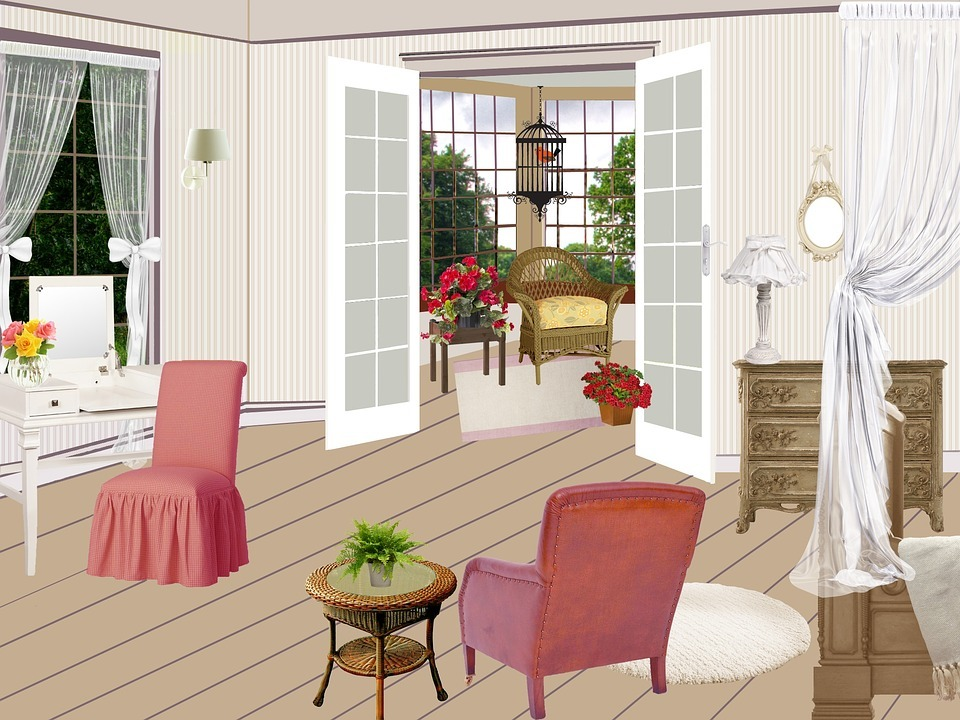chair: (73, 344, 272, 590), (491, 240, 624, 366)
pottedplant: (419, 253, 514, 344), (333, 512, 416, 598), (575, 354, 655, 433)
sofa: (443, 455, 713, 711)
